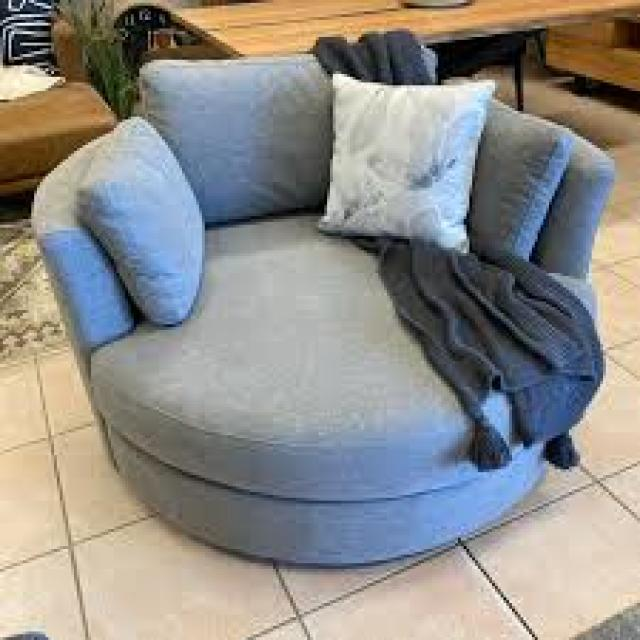chair: (15, 35, 640, 640)
